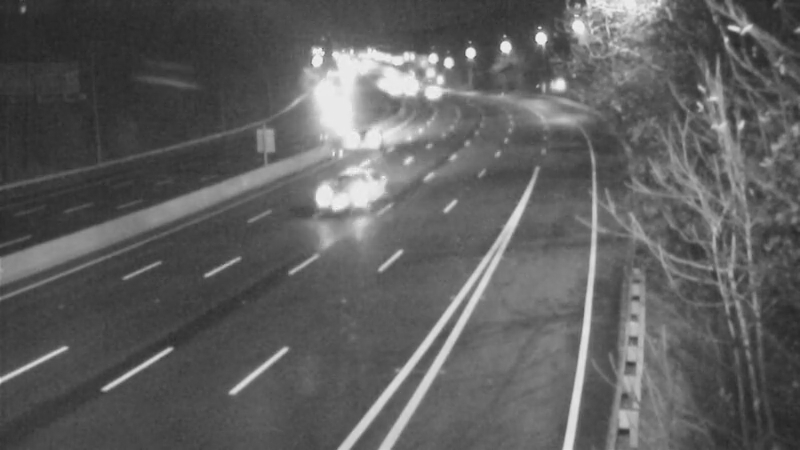vehicle: (306, 145, 386, 225), (411, 67, 461, 117), (367, 64, 417, 114), (331, 115, 381, 165), (312, 90, 362, 140)
